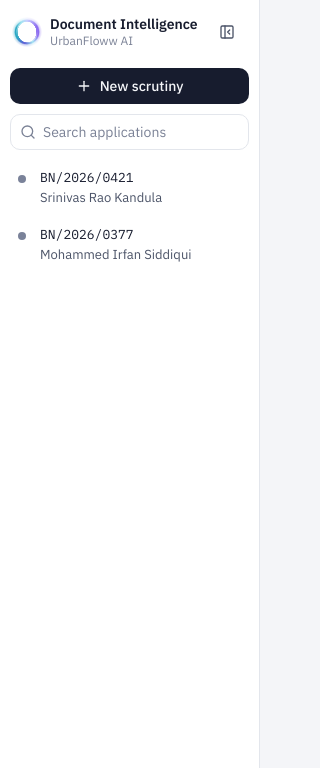
the thread rail › filters the list by what the officer types
Type "Kokapet" into the search field labelled "Search applications".
click(130, 132); type("Kokapet")  # box [10, 114, 249, 150]
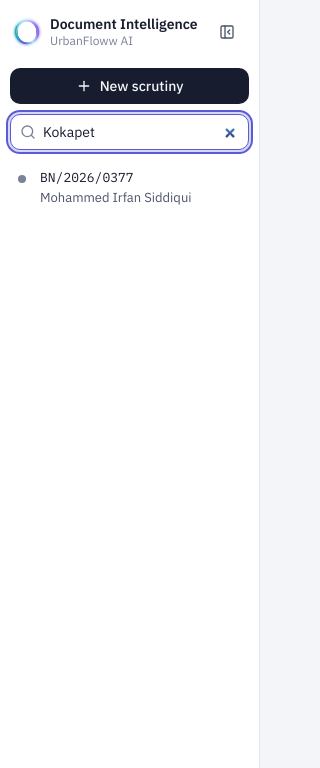
Expected: the button "BN/2026/0377 Mohammed Irfan Siddiqui" is shown, [10, 160, 249, 215]
Expected: the button "Srinivas Rao Kandula" is gone
